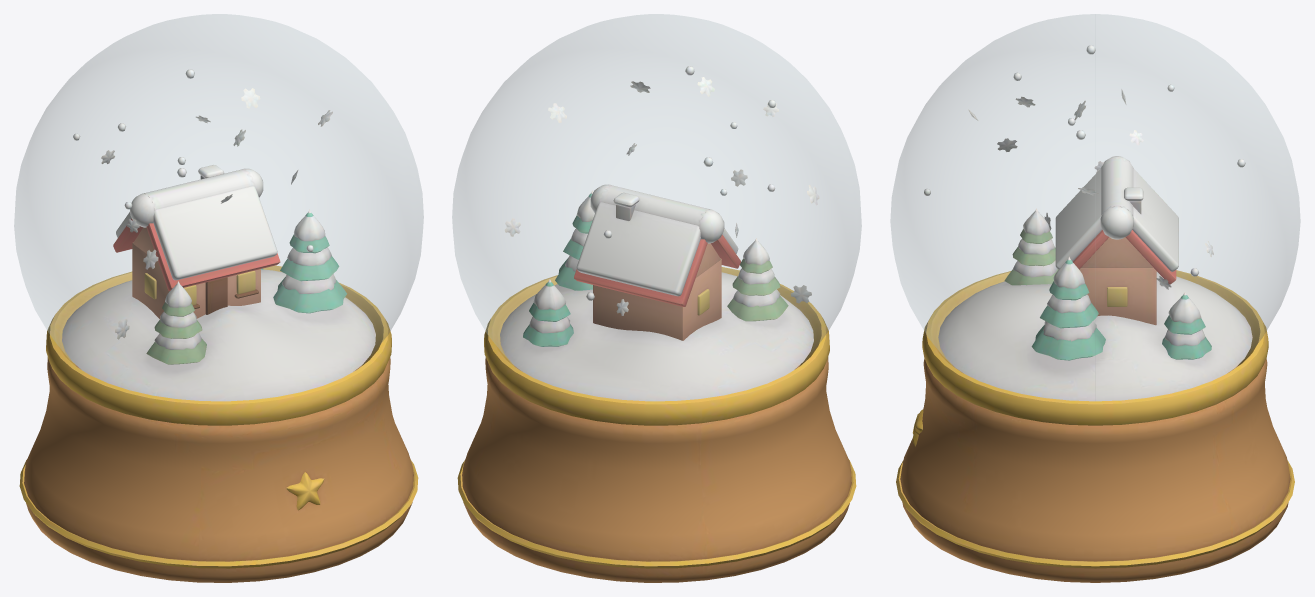
The model's file is bola_nieve.glb.
3 views of the same model, side by side, from view 1: azimuth 30°, elevation 25°; view 2: azimuth 150°, elevation 25°; view 3: azimuth 270°, elevation 25° (orthographic).
Visible parts, largest first — view 1: snow-globe_body; view 2: snow-globe_body; view 3: snow-globe_body.
Boxes of the visible parts, left/top/right/bottom form: snow-globe_body: left=14, top=14, right=423, bottom=582; snow-globe_body: left=452, top=14, right=861, bottom=582; snow-globe_body: left=890, top=14, right=1300, bottom=582.
Bounding box in the file's own units: 0.094 × 0.1195 × 0.094.
2 materials, 1 textured.
